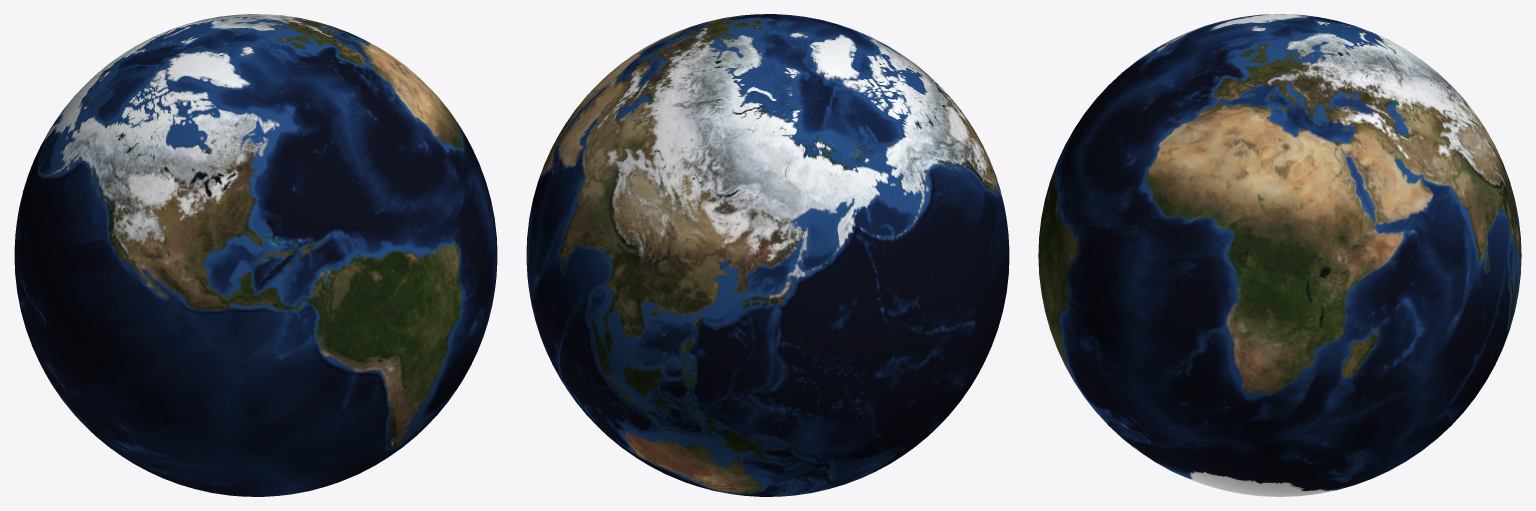
Rendered from earth.obj.
3 renders of one model, left to right at view 1: azimuth 30°, elevation 25°; view 2: azimuth 150°, elevation 25°; view 3: azimuth 270°, elevation 25°, orthographic.
Parts seen in each view (by area): view 1: Icosphere; view 2: Icosphere; view 3: Icosphere.
Boxes of the visible parts, x1=… form: Icosphere: x1=14, y1=14, x2=497, y2=496; Icosphere: x1=526, y1=14, x2=1009, y2=496; Icosphere: x1=1038, y1=14, x2=1521, y2=496.
Size of the model in its own units: 2 by 2 by 2.
